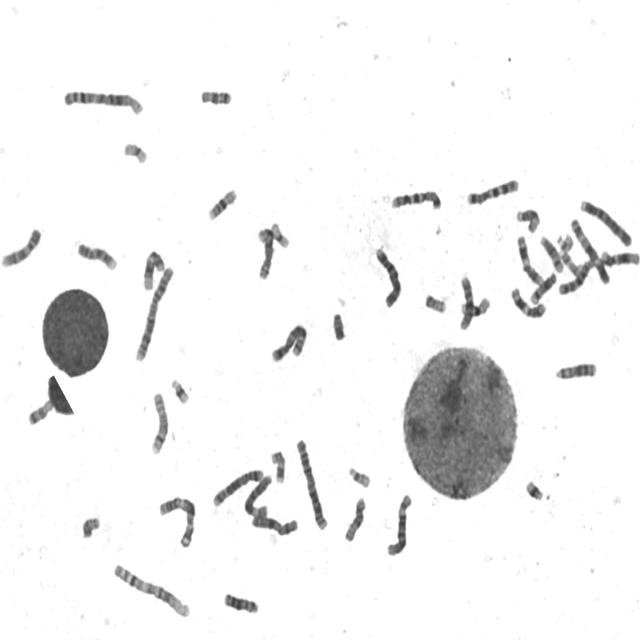A1: (111, 559, 192, 620), (61, 85, 145, 117)
A2: (132, 262, 175, 364), (294, 436, 329, 532)
A3: (568, 215, 612, 286), (156, 492, 197, 550)
B4: (578, 196, 633, 249), (373, 244, 403, 310)
B5: (210, 465, 265, 509), (268, 321, 308, 364)
C10: (556, 255, 594, 296), (456, 272, 475, 332)
C11: (514, 232, 546, 287), (508, 284, 548, 320)
C12: (140, 246, 166, 292), (598, 246, 640, 268)
C6: (384, 490, 413, 558), (242, 471, 273, 518)
C7: (464, 175, 520, 207), (389, 186, 443, 212)
C8: (148, 389, 170, 457), (254, 224, 274, 282)
C9: (0, 224, 43, 269), (74, 239, 118, 272)
D13: (553, 359, 598, 381), (222, 590, 260, 616)
D14: (538, 232, 566, 274), (528, 269, 558, 305)
D15: (342, 494, 368, 543), (514, 205, 541, 234)
E16: (205, 184, 239, 222), (458, 293, 492, 317)
E17: (558, 247, 582, 277), (268, 447, 286, 485)
E18: (25, 395, 55, 427), (198, 86, 234, 107)
F19: (121, 138, 149, 165), (269, 219, 291, 250)
F20: (79, 512, 102, 540), (422, 290, 448, 314)
G21: (168, 375, 190, 406), (522, 476, 546, 502)
G22: (346, 463, 372, 489), (555, 230, 575, 254)
X: (249, 510, 300, 538)
Y: (330, 310, 348, 342)
